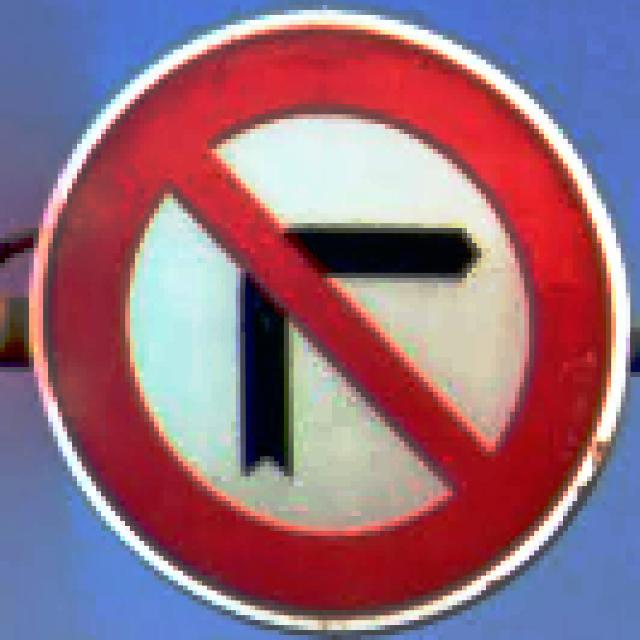noturnright: (24, 5, 630, 635)
